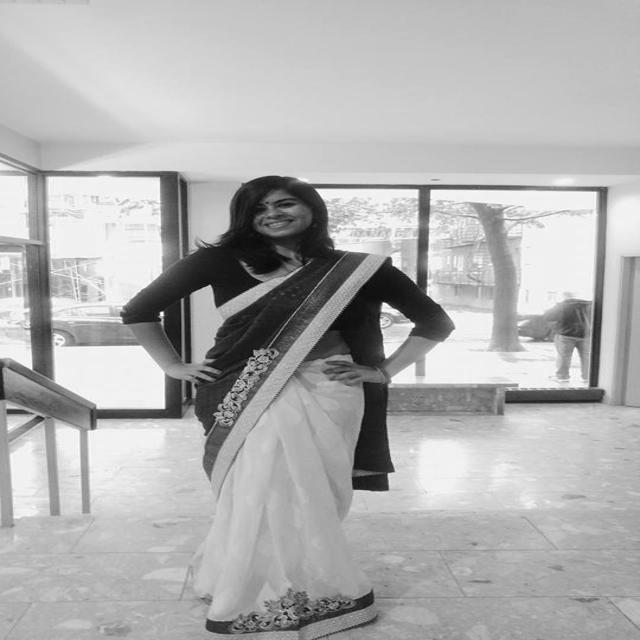Happiness: (252, 190, 312, 238)
